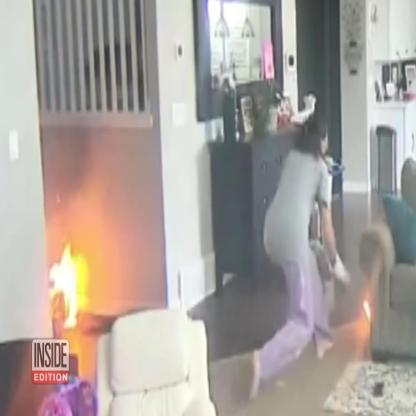fire: (49, 242, 88, 328), (364, 301, 370, 321)
